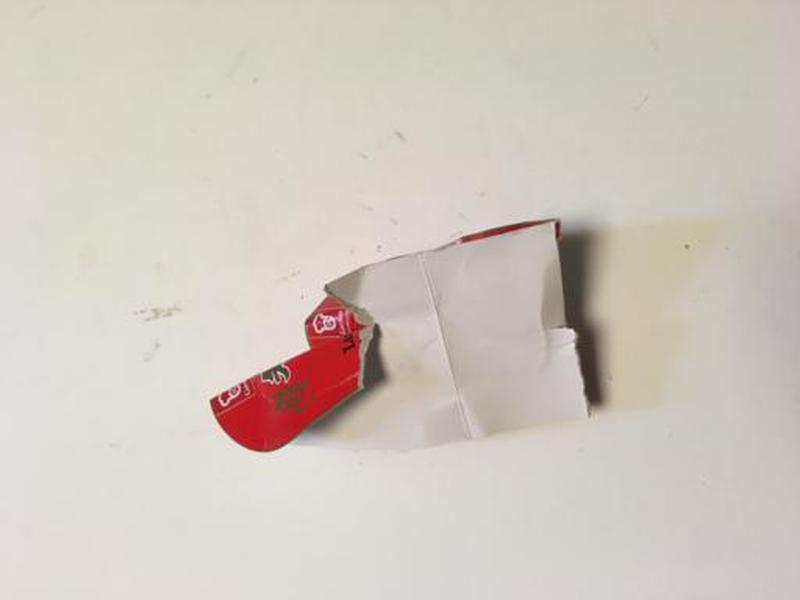paper: (207, 211, 599, 464)
